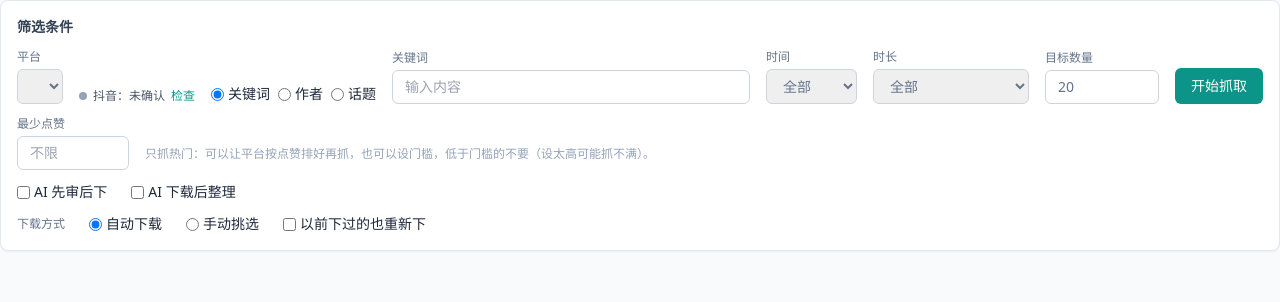
Scenario: D4 新建抓取表单 › 开了「AI 先审后下」没写规则：错误显示在规则框旁边
Type "猫咪" into the field with placeholder "输入内容" at point(571, 87), box [392,70,750,104]
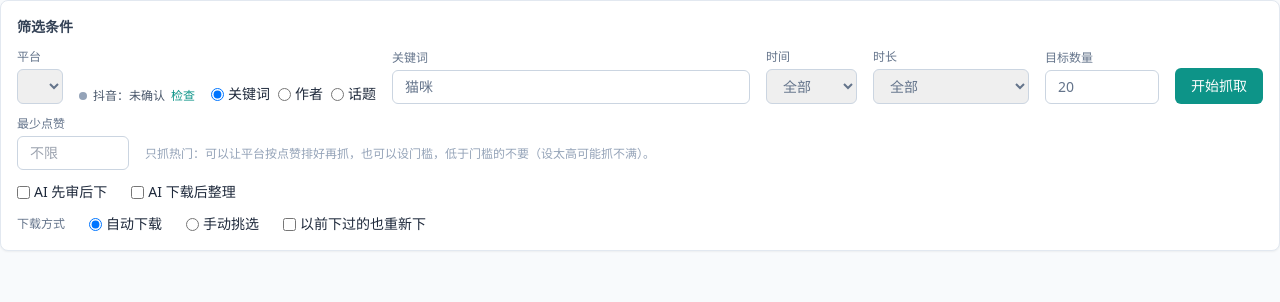
Click the checkbox labelled "AI 先审后下" at point(24, 192), box [17,186,30,198]
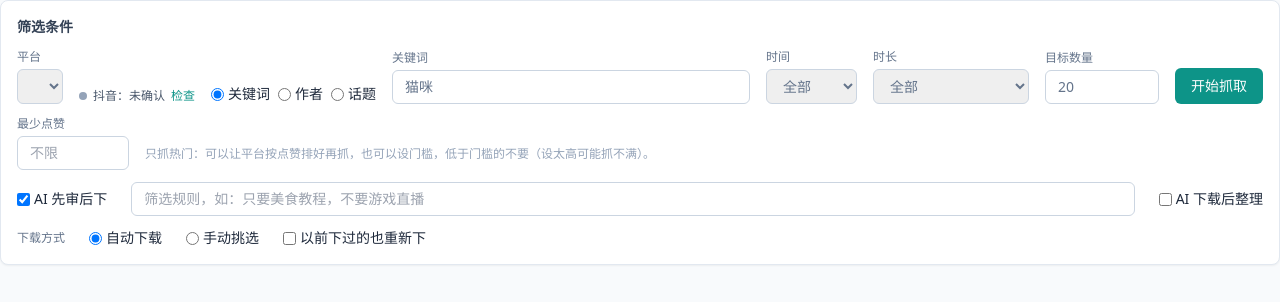
Click the button "开始抓取" at point(1219, 86), box [1175,68,1263,104]
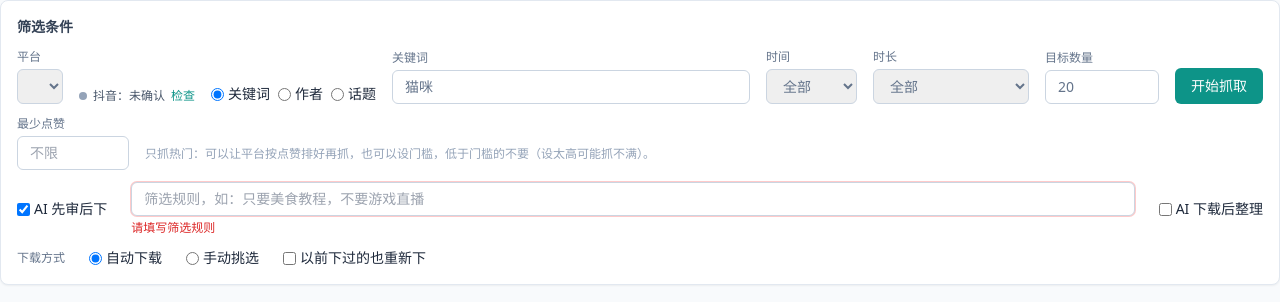
Expected: the text "请填写筛选规则" is shown, [131,219,215,236]
